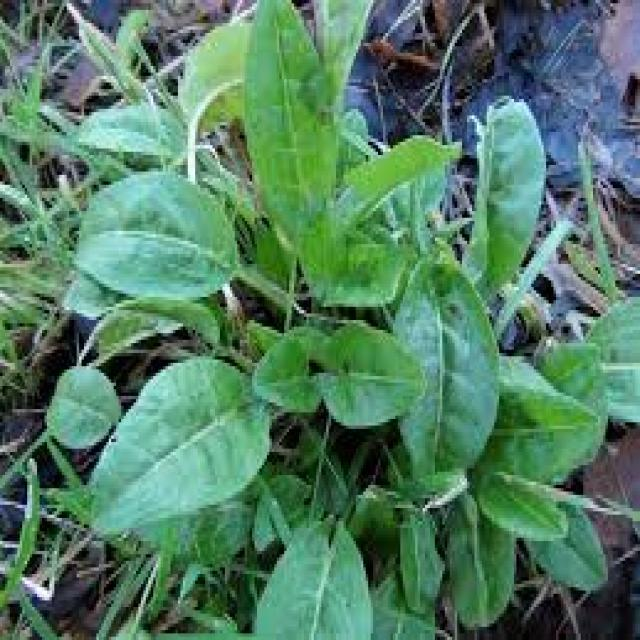organic waste: (77, 23, 593, 640)
